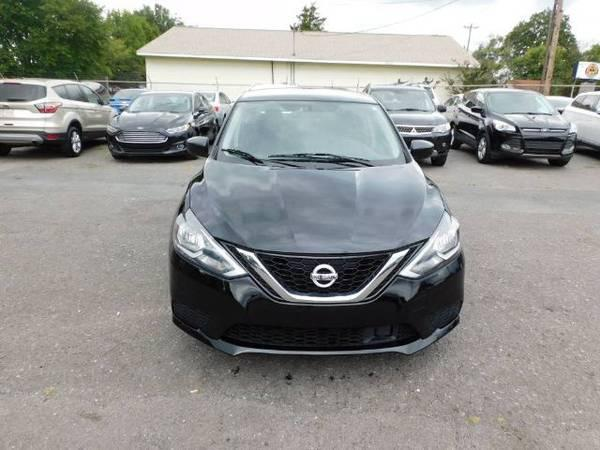Front_Bumper: (168, 244, 464, 354)
Front_Windshield: (211, 100, 409, 169)
Grille: (217, 238, 426, 303)
Hood: (183, 161, 443, 255)
Left_Headlight: (398, 205, 460, 279)
Left_Mirror: (409, 140, 433, 158)
Right_Headlight: (172, 205, 248, 279)
Right_Mirror: (184, 137, 209, 157)
Roof: (238, 85, 380, 102)
